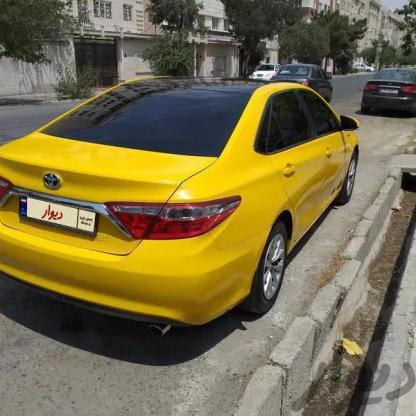Car: (0, 78, 361, 355), (360, 61, 416, 129), (276, 60, 345, 98), (248, 61, 280, 90)
